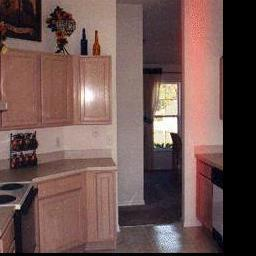Electrodomestico: (13, 182, 37, 251)
